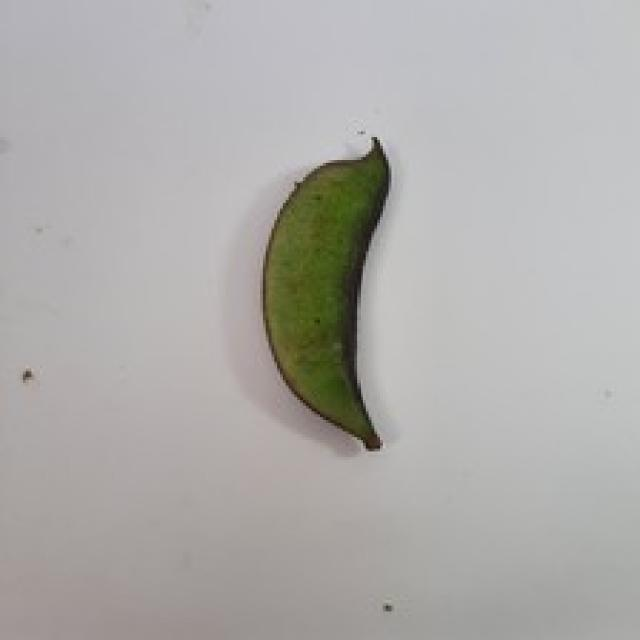Bean: (260, 134, 391, 452)
